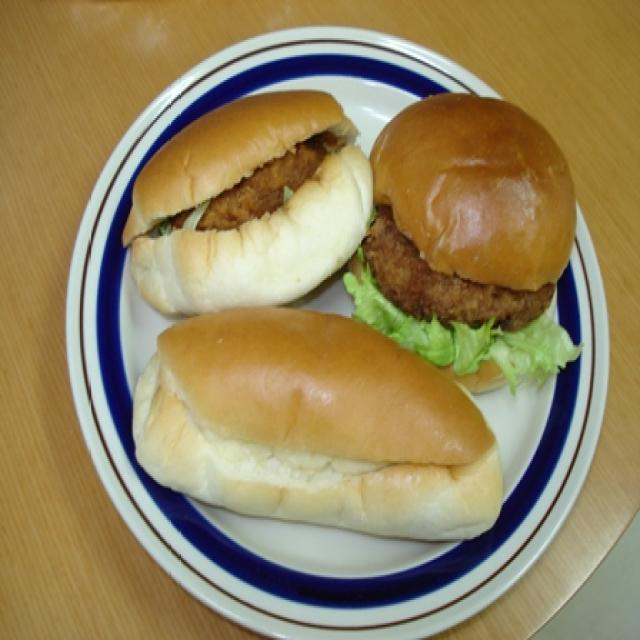三明治: (104, 63, 380, 320)
